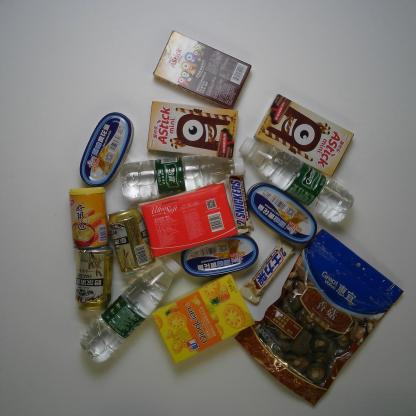Alcohol: (106, 200, 157, 278), (73, 240, 113, 315)
Canned Food: (78, 111, 138, 192), (245, 181, 317, 246), (179, 229, 261, 280), (66, 183, 111, 252)
Chocolate: (236, 234, 300, 306), (223, 167, 256, 235)
Dessert: (150, 269, 256, 365), (254, 93, 354, 179), (153, 29, 250, 114), (145, 99, 239, 164)
Dried Food: (231, 227, 404, 406)
Drink: (75, 255, 184, 365), (237, 134, 356, 225), (117, 152, 246, 200)
Tissue: (132, 179, 241, 259)
